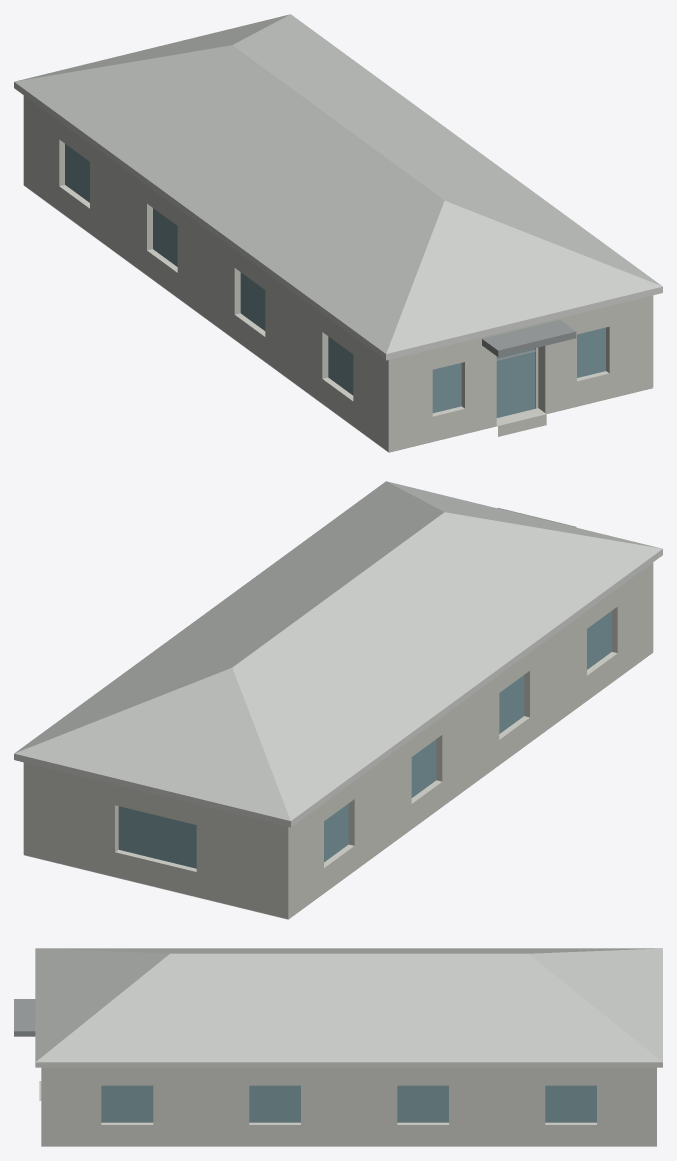
3 renders of one model, top to bottom at view 1: azimuth 30°, elevation 25°; view 2: azimuth 150°, elevation 25°; view 3: azimuth 270°, elevation 25°, orthographic. The views are drawn at different scales.
Visible parts, largest first — view 1: osm761589244__roofAccent, osm761589244__wall, osm761589244__glass, osm761589244__trim, osm761589244__canopy, osm761589244__entranceThreshold_0, osm761589244__roof; view 2: osm761589244__roofAccent, osm761589244__wall, osm761589244__glass, osm761589244__trim, osm761589244__roof; view 3: osm761589244__roofAccent, osm761589244__wall, osm761589244__glass, osm761589244__trim, osm761589244__parapet, osm761589244__canopy, osm761589244__roof.
Part boxes in pixels (x1,y1,x2,y2): osm761589244__roofAccent: (14, 14, 662, 353); osm761589244__wall: (23, 95, 653, 451); osm761589244__glass: (65, 144, 605, 417); osm761589244__trim: (14, 82, 662, 360); osm761589244__canopy: (482, 320, 576, 357); osm761589244__entranceThreshold_0: (496, 408, 546, 436); osm761589244__roof: (24, 185, 652, 452); osm761589244__roofAccent: (14, 481, 662, 820); osm761589244__wall: (23, 562, 653, 918); osm761589244__glass: (118, 611, 611, 868); osm761589244__trim: (14, 549, 662, 827); osm761589244__roof: (24, 652, 652, 919); osm761589244__roofAccent: (35, 948, 662, 1062); osm761589244__wall: (41, 1068, 656, 1145); osm761589244__glass: (101, 1085, 596, 1122); osm761589244__trim: (35, 1062, 662, 1067); osm761589244__parapet: (41, 1067, 656, 1068); osm761589244__canopy: (14, 999, 35, 1036); osm761589244__roof: (41, 1146, 656, 1146).
Bounding box in the file's own units: 11.34 × 6.8 × 27.3.
